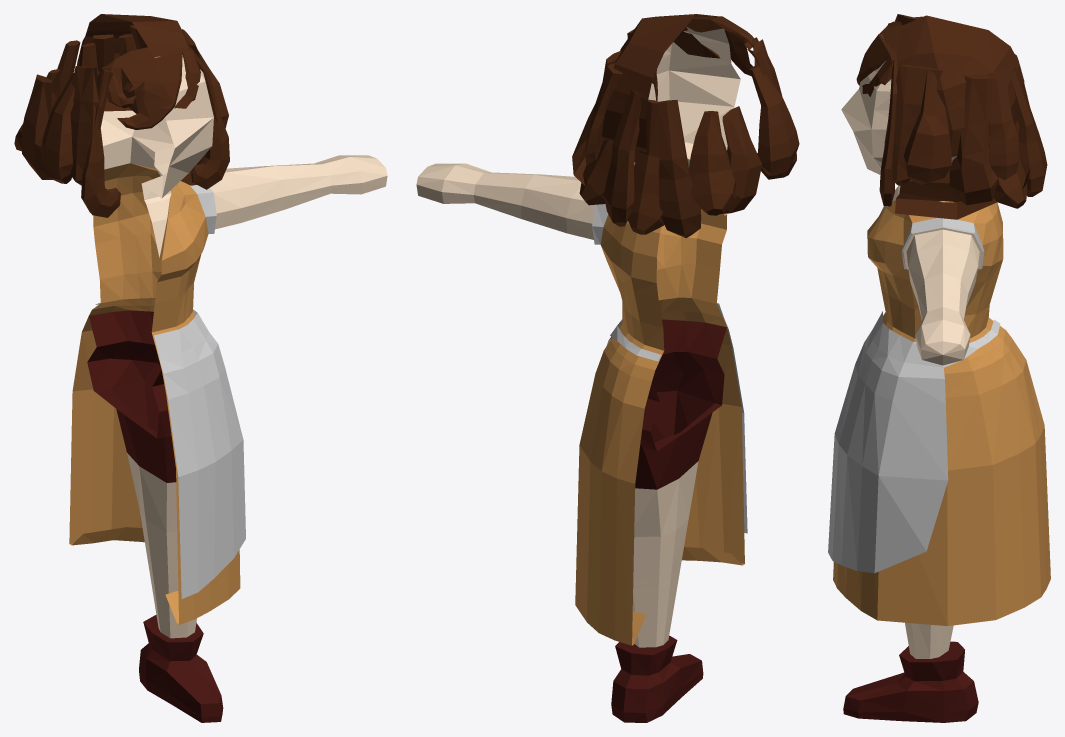
File: villager.dae
The picture shows the model from 3 angles, left to right: view 1: azimuth 30°, elevation 25°; view 2: azimuth 150°, elevation 25°; view 3: azimuth 270°, elevation 25°; orthographic projection. The views are drawn at different scales.
Visible parts, largest first — view 1: body, body_001, hair1, hairFringe, hair2, hair3; view 2: body, hair2, hair3, hair1, hairFringe, body_001, body_002; view 3: body, body_001, hair3, hair1, hair2, body_002, hairFringe.
Part boxes in pixels (x1,y1,x2,y2): body: (69,14,387,722); body_001: (95,303,245,598); hair1: (22,47,229,217); hairFringe: (102,47,200,129); hair2: (14,34,228,183); hair3: (57,25,217,185); body: (416,14,744,722); hair2: (579,65,799,234); hair3: (585,29,782,238); hair1: (602,37,796,213); hairFringe: (673,16,754,76); body_001: (607,303,747,533); body_002: (572,97,598,185); body: (833,15,1050,722); body_001: (828,311,1000,573); hair3: (884,14,1047,196); hair1: (879,21,997,206); hair2: (903,70,1027,208); body_002: (895,156,1030,219); hairFringe: (856,21,902,96).
Bounding box in the file's own units: 2.84 × 1.58 × 5.29.
